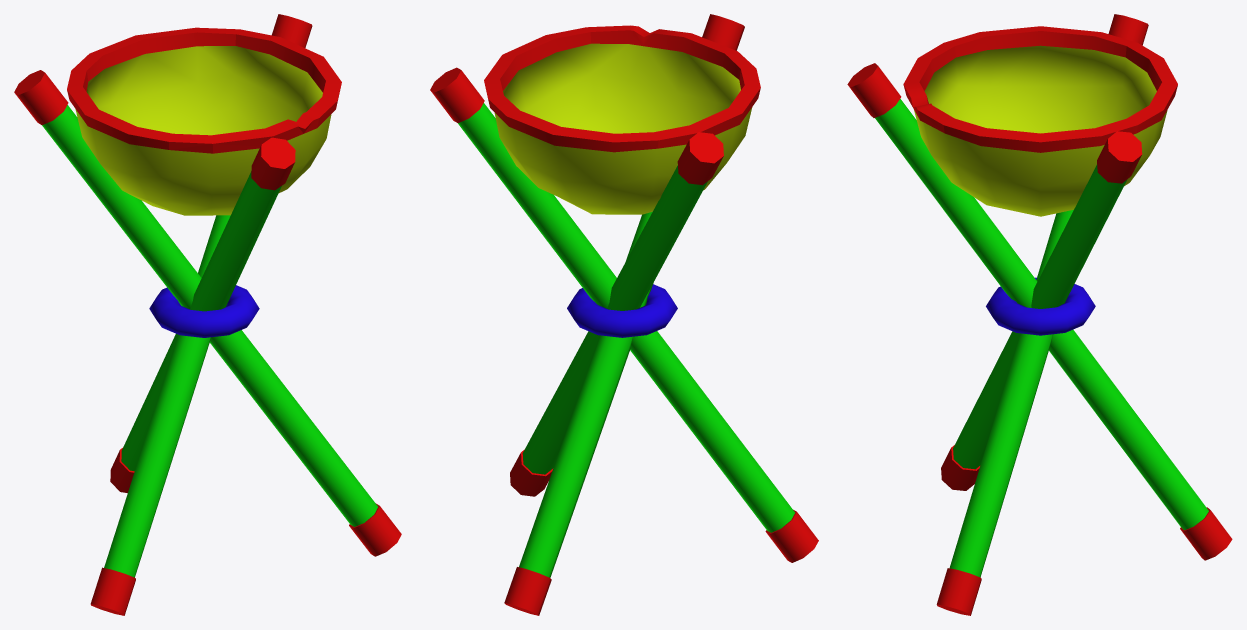
Rendered from Stove_MD.fbx.
The picture shows the model from 3 angles, left to right: view 1: azimuth 30°, elevation 25°; view 2: azimuth 150°, elevation 25°; view 3: azimuth 270°, elevation 25°; orthographic projection.
Visible parts, largest first — view 1: Box001; view 2: Box001; view 3: Box001.
Boxes of the visible parts, x1,y1,x2,y2 form: Box001: (14,14,401,615); Box001: (430,14,818,615); Box001: (847,14,1232,615).
Bounding box in the file's own units: 26.94 × 40.75 × 29.59.
